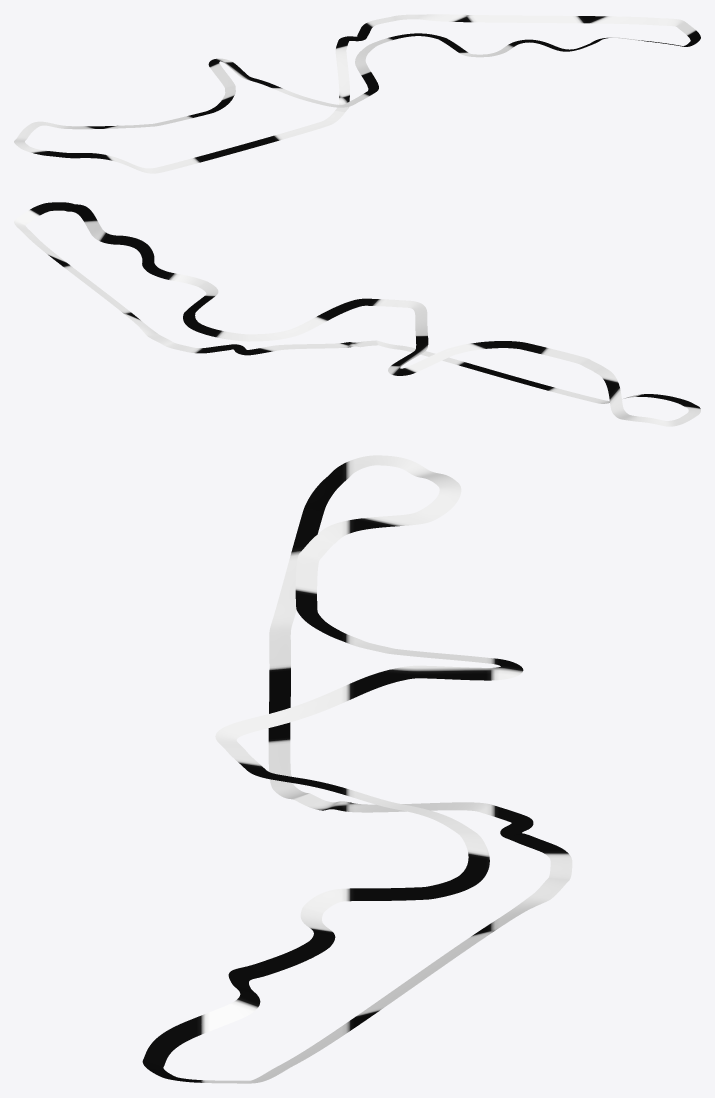
The model's file is circ2_road_highpoly.FBX.
3 views of the same model, one above another, from view 1: azimuth 30°, elevation 25°; view 2: azimuth 150°, elevation 25°; view 3: azimuth 270°, elevation 25° (orthographic). The views are drawn at different scales.
Parts seen in each view (by area): view 1: circ02_road; view 2: circ02_road; view 3: circ02_road.
Boxes of the visible parts, x1,y1,x2,y2 form: circ02_road: (14,14,700,173); circ02_road: (14,202,700,426); circ02_road: (142,455,572,1083).
Size of the model in its own units: 740201 by 45163 by 217309.
Materials: 1 (1 with a texture image).
